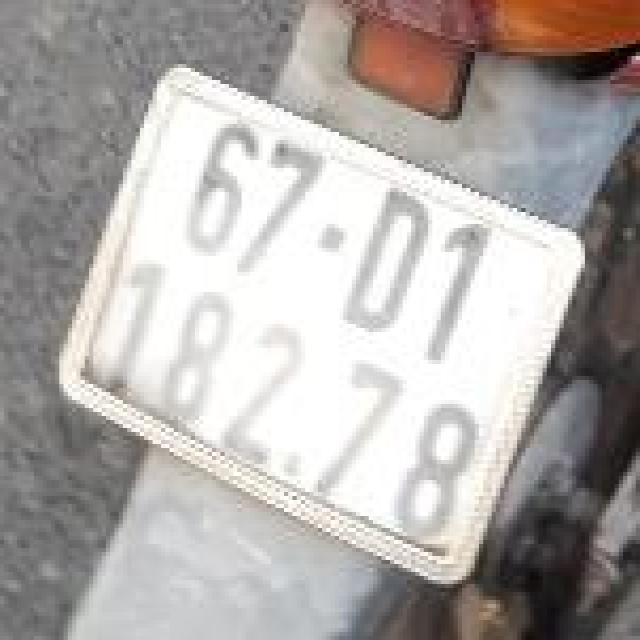1: (403, 211, 511, 380), (83, 251, 185, 415)
2: (203, 315, 336, 480)
6: (166, 111, 276, 273)
7: (291, 353, 424, 511), (222, 131, 343, 293)
8: (372, 384, 499, 556), (145, 276, 257, 442)
D: (322, 175, 455, 356)
